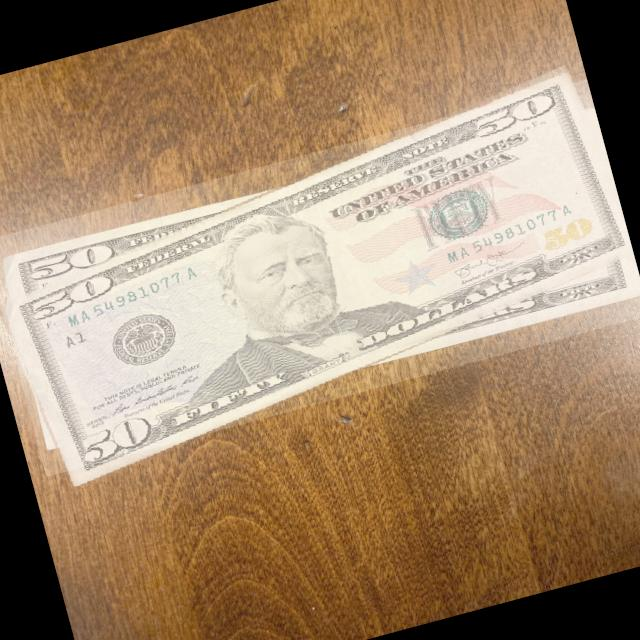fifty: (0, 79, 640, 476)
